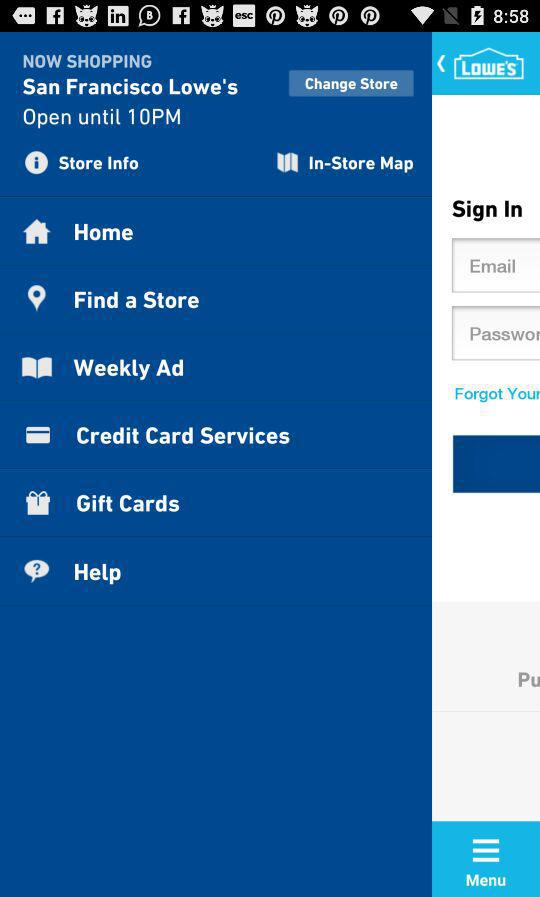Drawer: (1, 33, 432, 897)
Icon: (21, 217, 52, 246), (22, 357, 54, 381), (26, 490, 52, 517), (24, 560, 51, 584), (25, 151, 50, 176), (28, 284, 48, 313), (276, 151, 300, 175), (26, 427, 52, 445)
Text: (77, 426, 291, 446), (22, 78, 239, 97), (23, 108, 182, 129), (73, 358, 185, 382), (74, 290, 201, 310), (23, 53, 153, 70), (76, 493, 181, 514), (309, 156, 415, 175), (59, 155, 141, 172), (74, 222, 134, 243), (74, 563, 123, 586)
TextButton: (289, 70, 415, 98)
UpperTaskBar: (1, 1, 540, 33)
